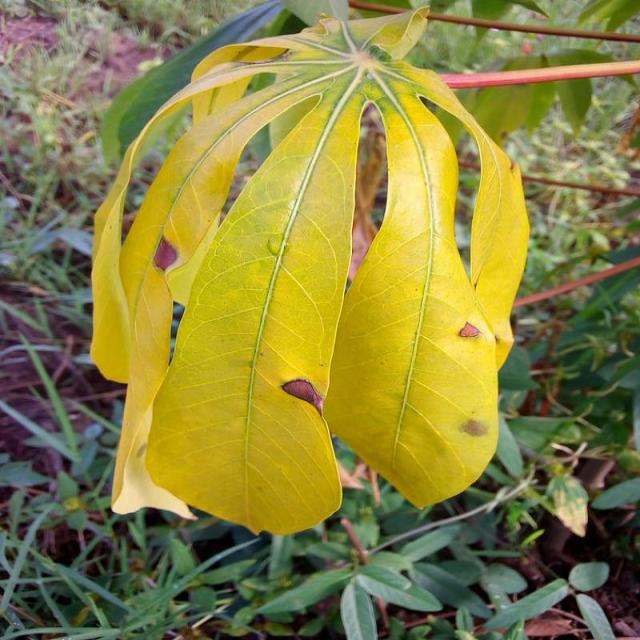cassava leaf: (90, 4, 530, 537)
